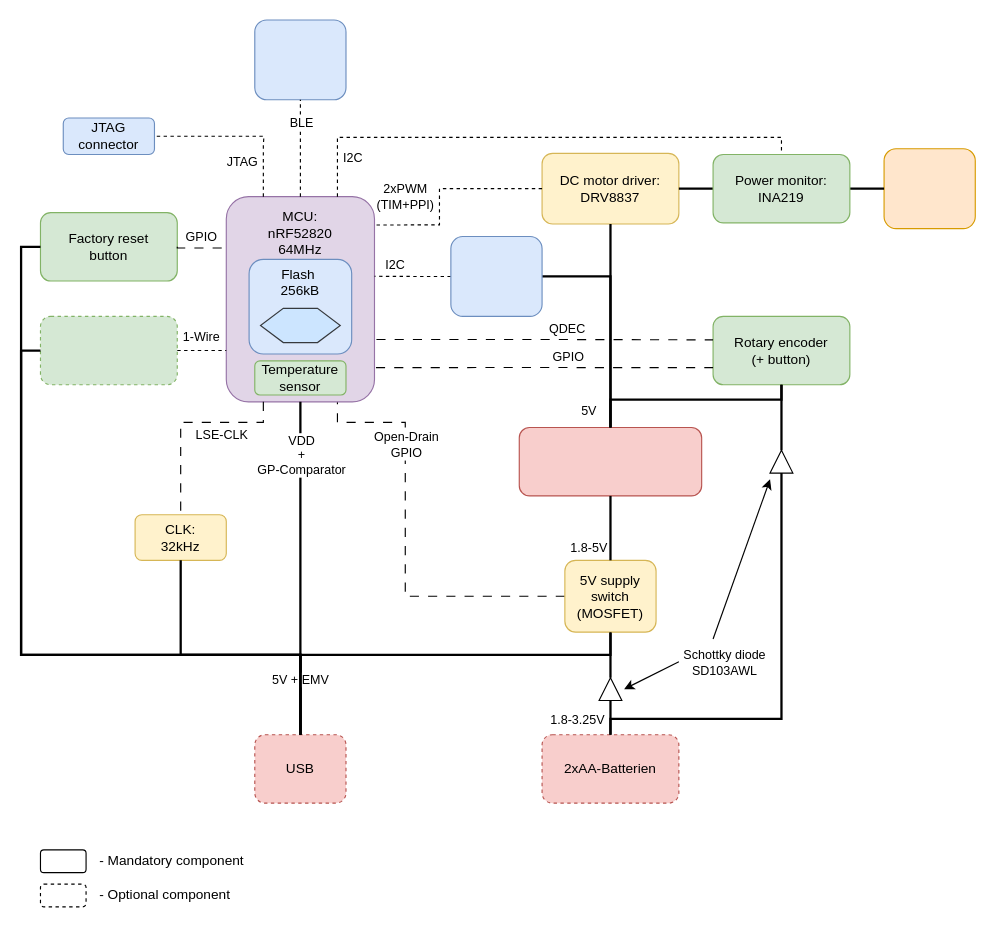
Some shapes in this 995 by 933 pixel diagram are drawn without their labels. Each missing label, with the box of its shape:
2.4MHz PCB antenna: (254, 19, 346, 100)
Buck boost converter: TPS613222A (5V, 500mA) + DFE252012F + SD103AWL: (518, 426, 702, 496)
DC motor: JS-30: (883, 148, 975, 229)
Display: SSD1306 OLED 128x64: (450, 235, 542, 316)
Software: (259, 307, 340, 343)
Temperature sensor: MY18E20: (39, 315, 177, 385)
